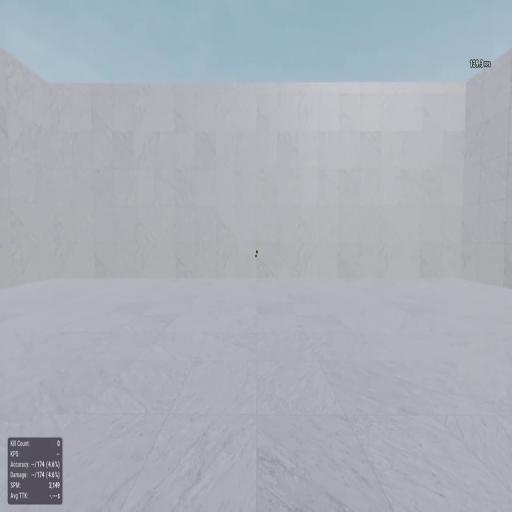Crosshair: (255, 254, 257, 258)
Target: (256, 250, 258, 254)
